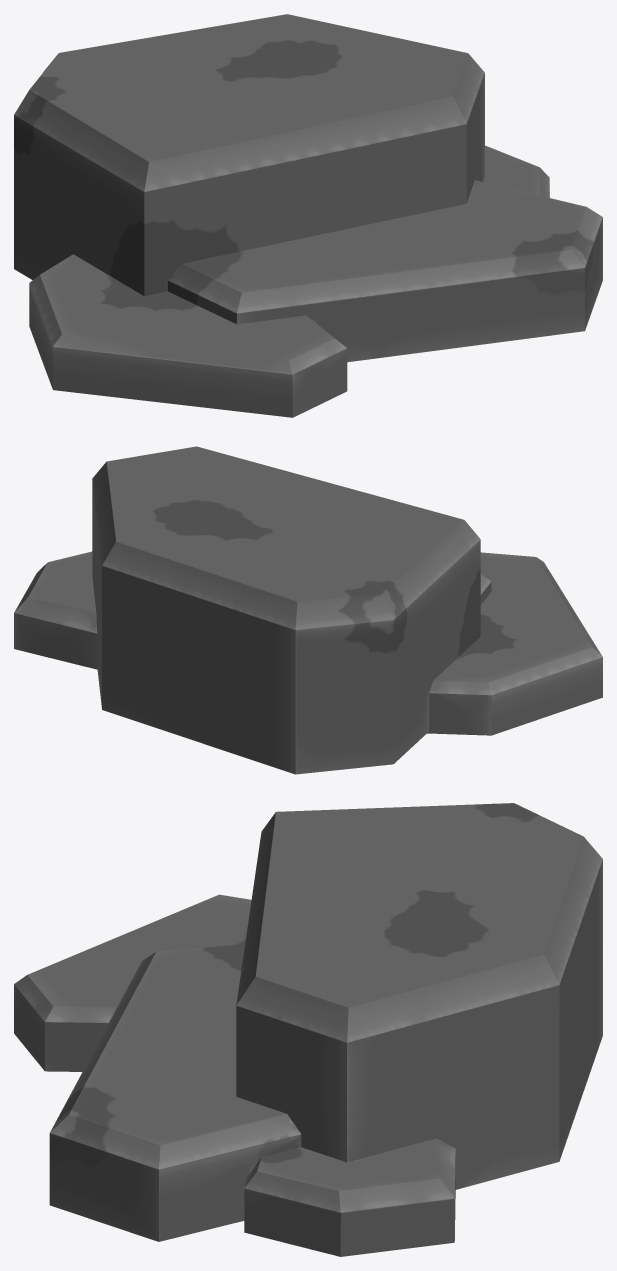
The model's file is rock_G.fbx.
The picture shows the model from 3 angles, top to bottom: view 1: azimuth 30°, elevation 25°; view 2: azimuth 150°, elevation 25°; view 3: azimuth 270°, elevation 25°; orthographic projection. The views are drawn at different scales.
Parts seen in each view (by area): view 1: Rock7, Rock6, Rock4, Rock5; view 2: Rock7, Rock4, Rock5; view 3: Rock7, Rock6, Rock5, Rock4.
Part boxes in pixels (x1,y1,x2,y2): Rock7: [14, 14, 484, 296]; Rock6: [167, 180, 602, 362]; Rock4: [29, 254, 347, 417]; Rock5: [483, 145, 549, 197]; Rock7: [92, 446, 480, 774]; Rock4: [427, 552, 602, 735]; Rock5: [14, 551, 97, 669]; Rock7: [236, 803, 602, 1189]; Rock6: [49, 944, 301, 1241]; Rock5: [244, 1138, 455, 1256]; Rock4: [14, 894, 251, 1071].
Size of the model in its own units: 9.36 by 2.91 by 7.56.
